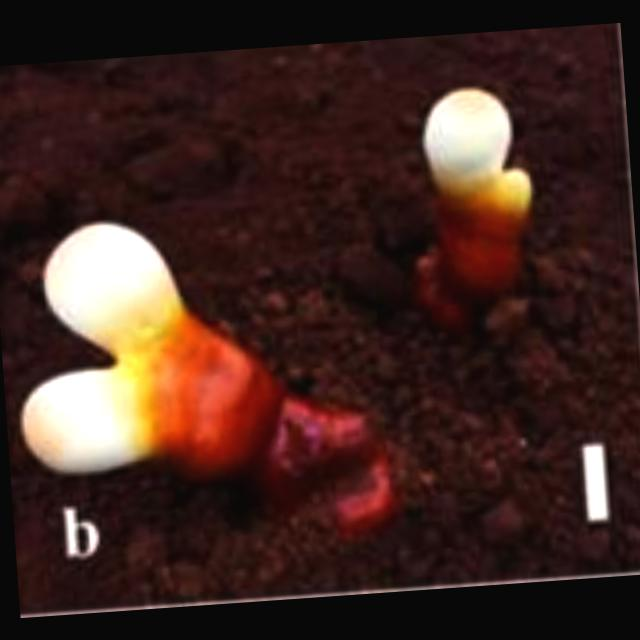primordium: (36, 214, 194, 368), (16, 364, 157, 484), (417, 82, 522, 199)
